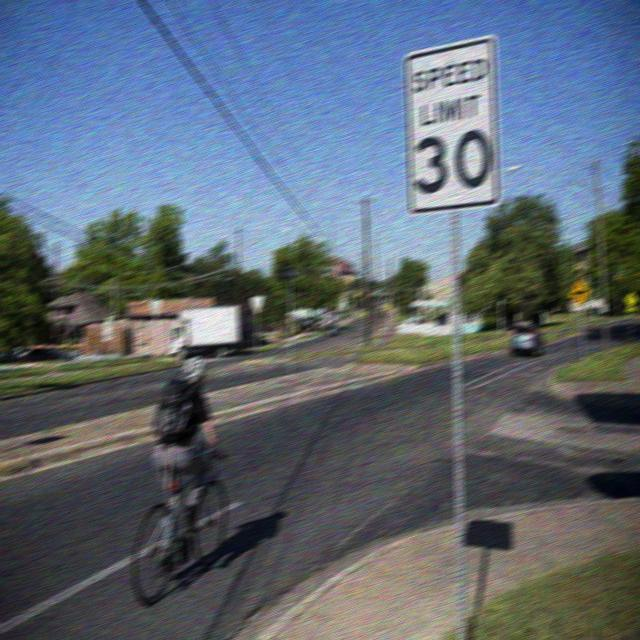speedLimit30: (409, 62, 494, 197)
